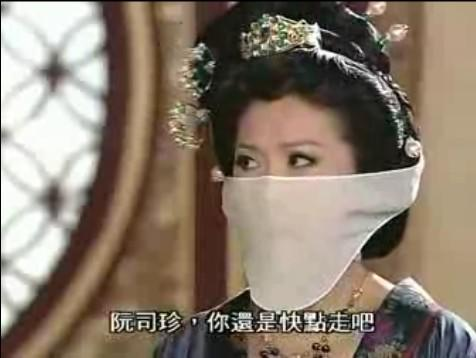OK: (218, 119, 371, 272)
